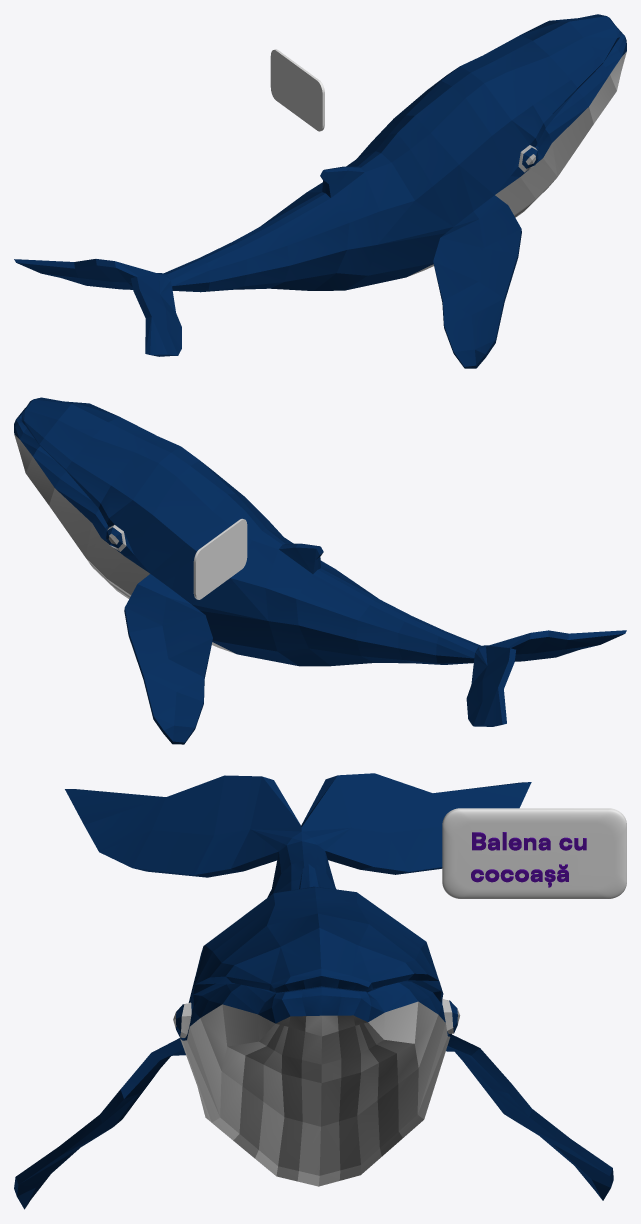
The model's file is Balena scaled.fbx.
The picture shows the model from 3 angles, top to bottom: view 1: azimuth 30°, elevation 25°; view 2: azimuth 150°, elevation 25°; view 3: azimuth 270°, elevation 25°; orthographic projection. The views are drawn at different scales.
Visible parts, largest first — view 1: Whale.004, Cube.010; view 2: Whale.004, Cube.010; view 3: Whale.004, Cube.010, Text.010.
Part boxes in pixels (x1=…): Whale.004: x1=14, y1=14, x2=626, y2=368; Cube.010: x1=270, y1=49, x2=324, y2=131; Whale.004: x1=14, y1=397, x2=626, y2=744; Cube.010: x1=193, y1=518, x2=247, y2=599; Whale.004: x1=14, y1=773, x2=613, y2=1209; Cube.010: x1=442, y1=808, x2=626, y2=898; Text.010: x1=471, y1=832, x2=586, y2=887.
Size of the model in its own units: 0.3952 by 0.1684 by 0.2153.
